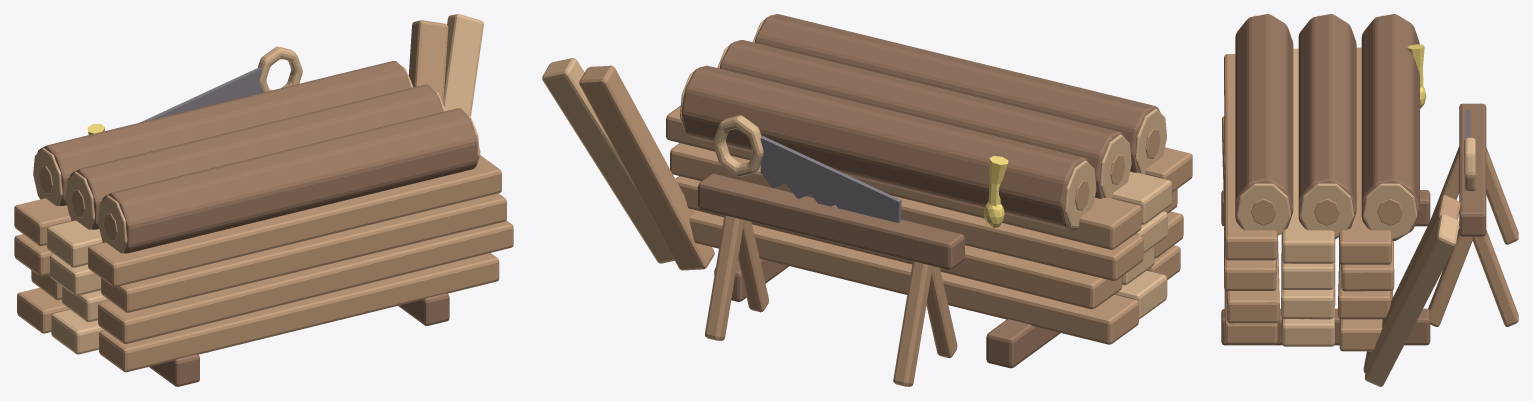
The model's file is Kit_LM_LumberPile.fbx.
3 renders of one model, left to right at view 1: azimuth 30°, elevation 25°; view 2: azimuth 150°, elevation 25°; view 3: azimuth 270°, elevation 25°, orthographic. The views are drawn at different scales.
Parts seen in each view (by area): view 1: Kit_LM_LumberPile; view 2: Kit_LM_LumberPile; view 3: Kit_LM_LumberPile.
Part boxes in pixels (x1=…): Kit_LM_LumberPile: x1=14, y1=14, x2=513, y2=386; Kit_LM_LumberPile: x1=542, y1=14, x2=1192, y2=386; Kit_LM_LumberPile: x1=1221, y1=14, x2=1518, y2=386.
Bounding box in the file's own units: 4.32 × 1.7 × 2.31.
